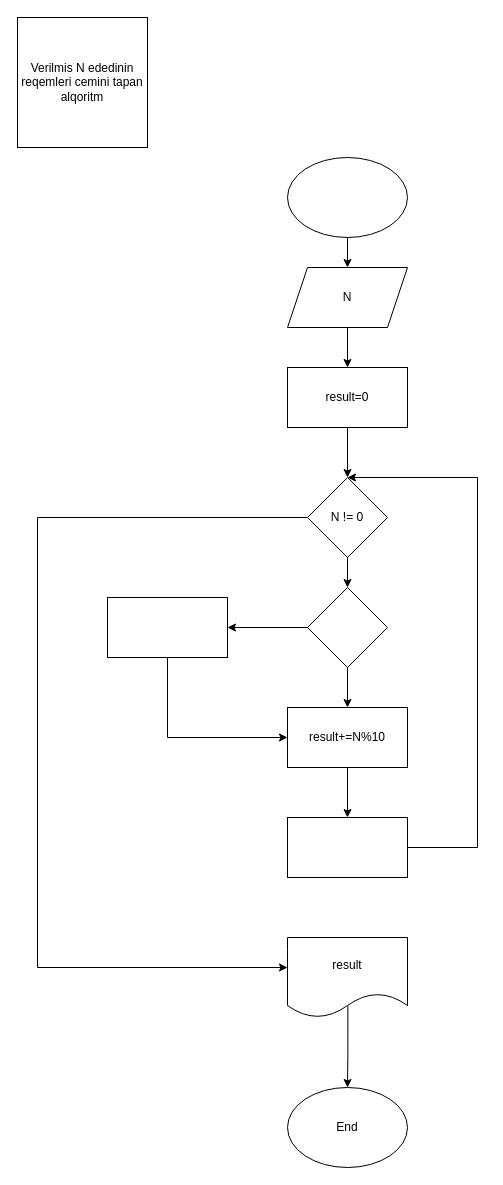
Image size: 503x1185. Some labels were removed from this diagram. Each missing label, with the centre of its shape:
N=-N: the point at 167,627
N=/10: the point at 347,847
N>0: the point at 347,627
Start: the point at 347,197
